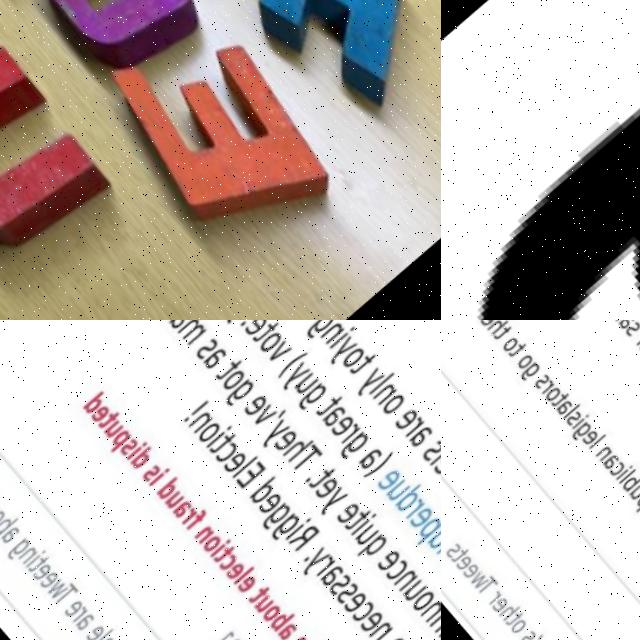9: (441, 0, 640, 320)
A: (305, 568, 337, 597), (397, 432, 428, 459), (195, 350, 225, 376), (312, 411, 341, 437), (348, 454, 377, 479), (160, 501, 186, 525), (62, 612, 87, 634), (547, 398, 570, 420), (160, 320, 191, 334), (263, 624, 289, 640), (594, 455, 614, 474), (0, 522, 14, 546), (611, 320, 632, 335), (423, 628, 441, 640)
B: (256, 613, 285, 638), (611, 473, 637, 497), (0, 510, 13, 537)
C: (204, 444, 234, 471), (372, 566, 402, 592), (338, 606, 368, 632), (208, 558, 230, 578), (600, 462, 620, 481)
D: (382, 491, 420, 524), (239, 479, 275, 511), (414, 528, 441, 560), (146, 478, 178, 505), (121, 447, 152, 474), (74, 392, 103, 417)
E: (82, 0, 355, 293), (226, 464, 261, 494), (211, 454, 243, 482), (363, 555, 394, 583), (329, 596, 359, 624), (246, 495, 276, 523), (385, 413, 416, 440), (397, 513, 427, 540), (366, 475, 396, 502), (324, 507, 354, 534), (303, 482, 333, 509), (264, 433, 294, 460), (235, 398, 264, 425), (321, 420, 351, 446), (345, 615, 376, 640), (236, 320, 266, 344), (81, 404, 107, 428), (224, 578, 250, 601), (20, 561, 46, 584), (51, 598, 76, 621), (27, 569, 52, 592), (214, 565, 238, 587), (443, 551, 467, 573), (422, 460, 441, 486), (452, 560, 474, 581), (573, 430, 595, 450), (71, 623, 96, 640), (480, 595, 501, 615), (472, 320, 495, 329), (631, 339, 640, 359), (631, 502, 640, 522)
F: (173, 512, 201, 536)
G: (0, 0, 215, 103), (328, 437, 366, 470), (288, 387, 326, 420), (215, 382, 252, 414), (250, 506, 286, 538), (258, 517, 294, 548), (296, 320, 334, 349), (512, 362, 538, 385), (0, 536, 23, 561), (562, 423, 586, 445)
H: (272, 438, 309, 470), (486, 600, 513, 623), (480, 320, 506, 337)
I: (322, 332, 354, 357), (339, 520, 370, 545), (273, 523, 305, 547), (196, 429, 228, 453), (138, 470, 163, 490), (118, 444, 143, 463), (200, 542, 224, 561), (16, 549, 40, 568), (424, 539, 441, 564), (563, 415, 585, 432), (606, 468, 627, 484), (608, 320, 629, 325)
J: (216, 320, 257, 329)
K: (195, 0, 441, 152)
L: (360, 380, 390, 403), (223, 460, 253, 483), (420, 450, 441, 474), (222, 570, 247, 589), (609, 471, 630, 488), (555, 405, 576, 422), (580, 436, 601, 452), (80, 629, 104, 640)
M: (169, 320, 203, 351)
N: (363, 389, 393, 415), (406, 607, 436, 633), (381, 575, 411, 601), (178, 413, 207, 439), (312, 328, 341, 353), (414, 617, 441, 640), (184, 528, 207, 550), (7, 545, 31, 566), (354, 626, 384, 640), (586, 447, 607, 465)
O: (333, 352, 363, 379), (397, 596, 427, 623), (251, 335, 281, 361), (213, 372, 243, 398), (187, 424, 217, 450), (372, 400, 401, 426), (248, 608, 273, 630), (191, 537, 216, 558), (509, 352, 531, 373), (495, 335, 517, 356), (498, 616, 519, 637), (537, 386, 558, 406)
P: (402, 526, 435, 554), (96, 430, 127, 456), (621, 495, 640, 517)
Q: (344, 541, 382, 574)
R: (278, 527, 313, 558), (392, 424, 419, 447), (392, 504, 419, 527), (300, 562, 327, 585), (330, 430, 355, 451), (170, 510, 191, 529), (59, 606, 80, 624), (474, 589, 495, 606), (532, 380, 552, 397), (429, 470, 441, 493), (627, 332, 640, 350)
S: (322, 587, 352, 614), (186, 340, 216, 366), (315, 579, 345, 605), (411, 448, 440, 473), (131, 464, 157, 487), (109, 438, 134, 461), (557, 410, 578, 430), (618, 323, 638, 341), (527, 374, 547, 392), (441, 540, 455, 558), (508, 629, 528, 640)
T: (279, 448, 319, 483), (245, 323, 277, 351), (200, 433, 232, 461), (340, 358, 373, 385), (206, 361, 239, 388), (307, 399, 339, 426), (298, 471, 329, 498), (333, 514, 364, 540), (41, 582, 71, 608), (464, 573, 491, 598), (235, 589, 262, 612), (89, 411, 116, 434), (202, 547, 228, 570), (16, 554, 42, 575), (502, 341, 525, 361), (487, 323, 510, 343), (492, 610, 516, 629), (441, 544, 463, 564), (543, 392, 566, 411)
U: (0, 5, 123, 297), (390, 585, 419, 612), (286, 377, 316, 403), (376, 486, 404, 512), (343, 530, 371, 555), (153, 493, 178, 515), (241, 599, 264, 621), (95, 421, 119, 442), (618, 485, 640, 505)
V: (259, 344, 289, 372), (242, 408, 272, 435), (427, 549, 441, 575)
W: (458, 568, 483, 592), (35, 579, 60, 602), (286, 320, 321, 328)
Y: (269, 366, 308, 399), (247, 423, 285, 456), (304, 493, 342, 525), (343, 374, 380, 406), (286, 552, 322, 584), (318, 343, 354, 373)
